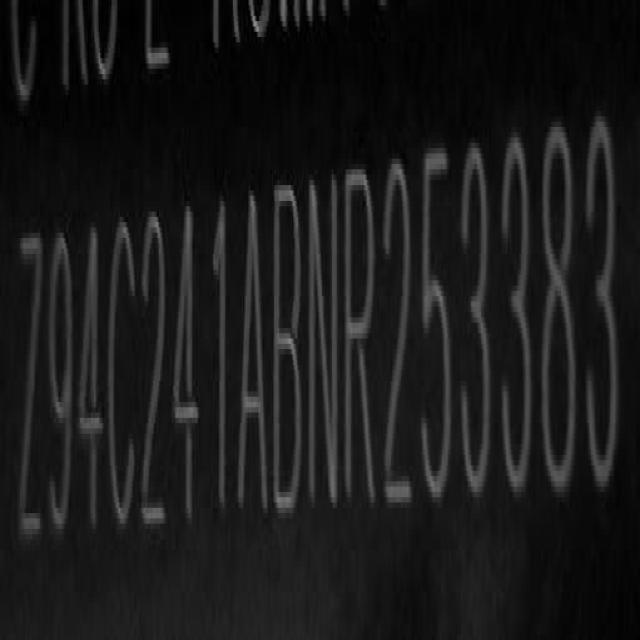1: (211, 193, 231, 538)
2: (384, 152, 417, 520), (138, 208, 167, 550)
3: (588, 110, 623, 500), (500, 132, 536, 507), (462, 138, 494, 510)
4: (175, 198, 205, 545), (79, 212, 109, 547)
5: (420, 141, 452, 511)
8: (539, 120, 576, 505)
9: (49, 225, 75, 557)
A: (238, 183, 271, 533)
B: (277, 174, 306, 528)
C: (110, 217, 138, 550)
N: (308, 164, 341, 522)
R: (344, 163, 380, 519)
Z: (18, 224, 45, 563)
